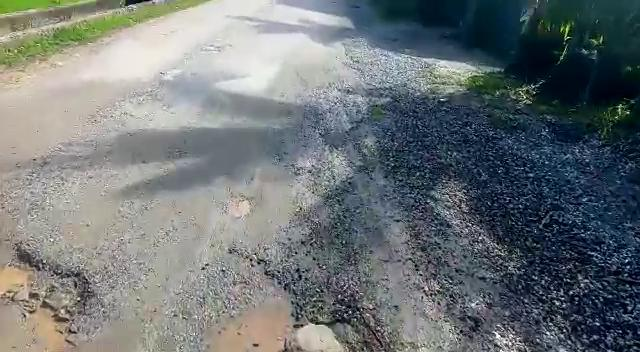pothole: (0, 239, 94, 340), (203, 297, 295, 352)
